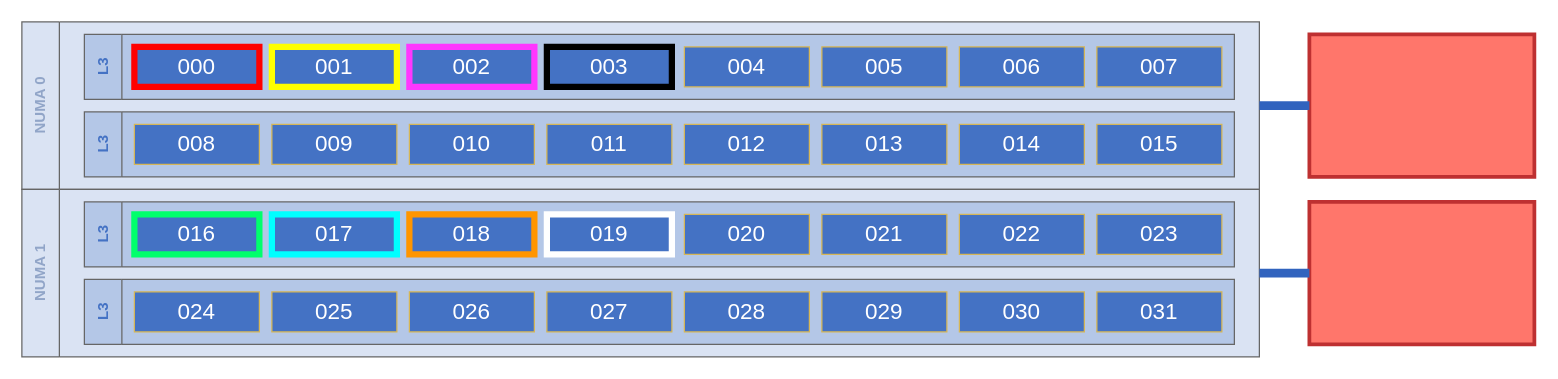
This 1558x379 diagram has some shape labels left out. The shapes that lost their labels are listed below. From the top down, each one's centre as x and y in pixels, then its label:
At point (1421, 105): "GPU 3".
At point (1421, 272): "GPU 0".
